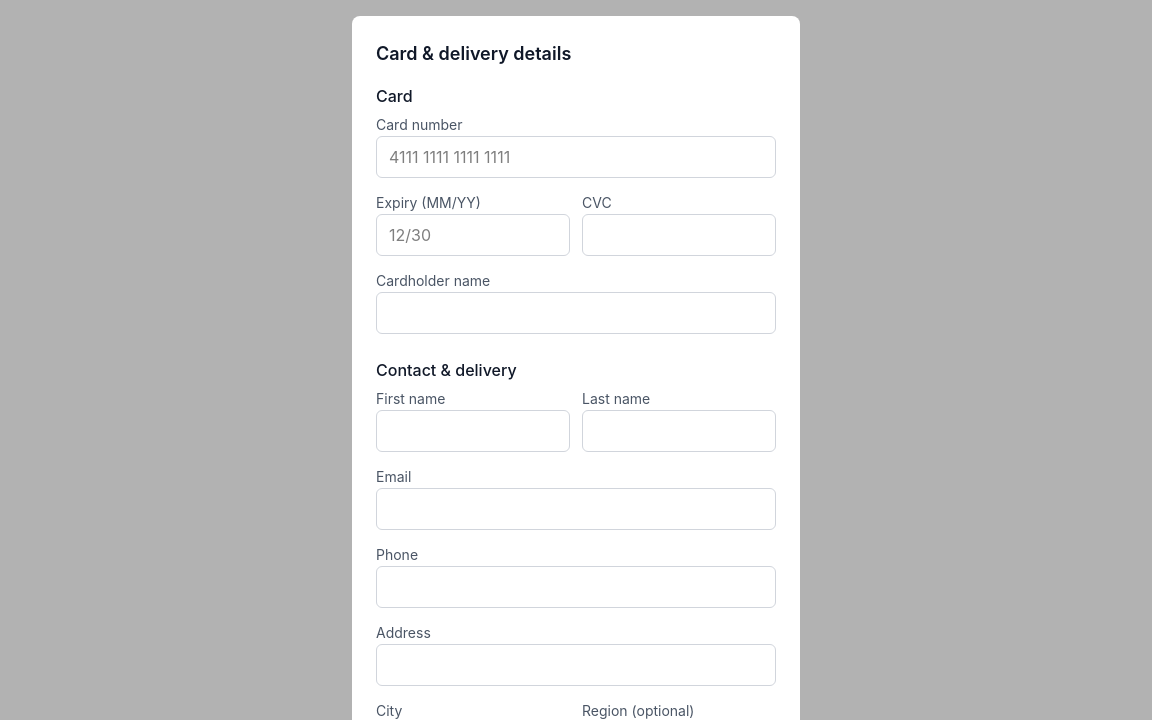
PaymentModal › shows the detected card brand as the number is typed
This screenshot has width=1152, height=720.
In the field labelled "Card number": {"x": 576, "y": 157} [376,136,776,178], type "4111111111111111"
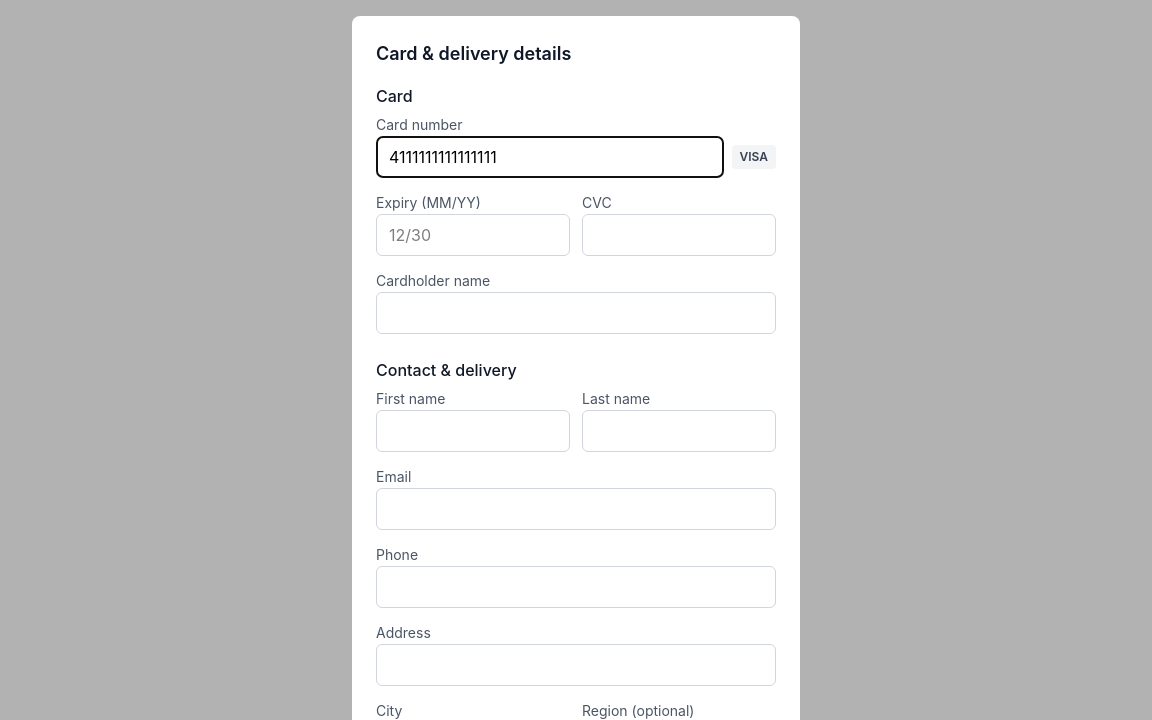
Check: the text "VISA" is shown, box [732,145,776,169]
